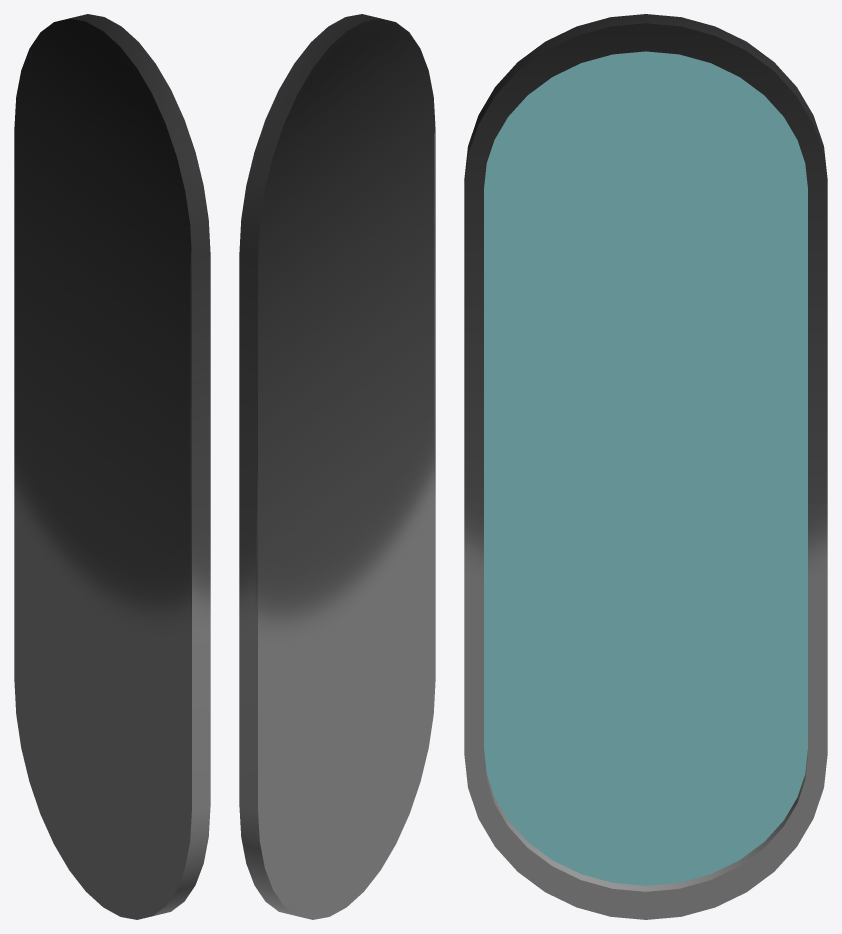
File: espejoPared1.fbx
3 renders of one model, left to right at view 1: azimuth 30°, elevation 25°; view 2: azimuth 150°, elevation 25°; view 3: azimuth 270°, elevation 25°, orthographic. The views are drawn at different scales.
Parts seen in each view (by area): view 1: EspejoPared1; view 2: EspejoPared1; view 3: EspejoPared1.
Part boxes in pixels (box(x1,y1,x2,y2)): EspejoPared1: box(14, 14, 210, 919); EspejoPared1: box(239, 14, 435, 919); EspejoPared1: box(464, 14, 827, 919).
Size of the model in its own units: 44.36 by 1994 by 732.
